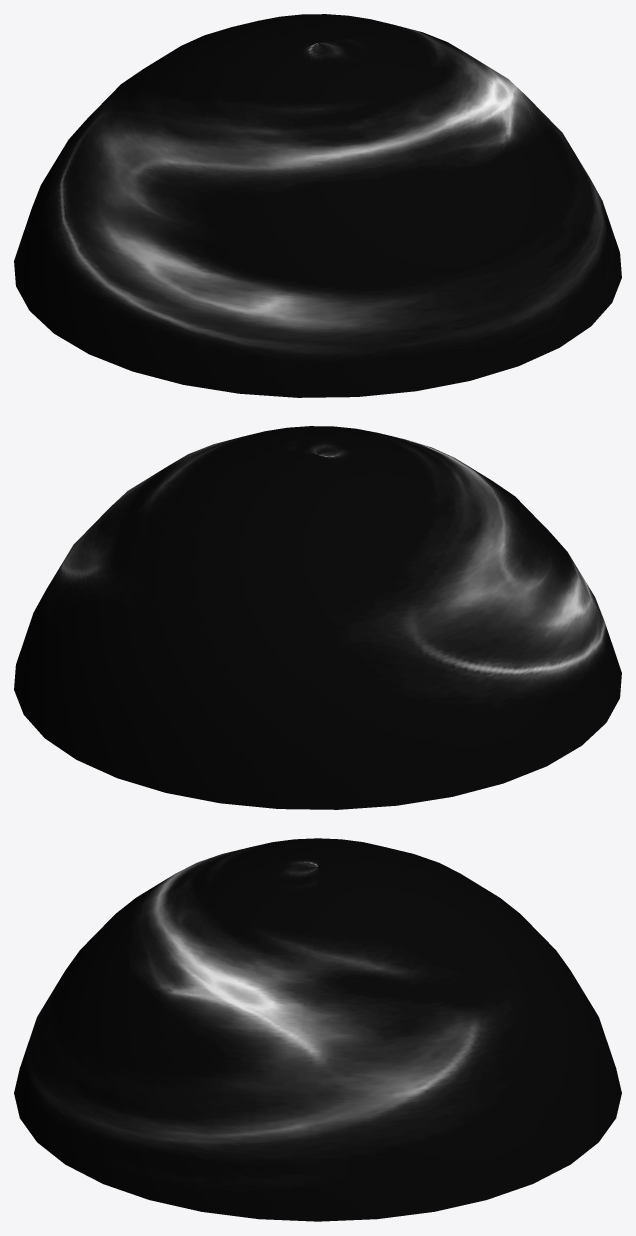
Rendered from 0212_banqiu.glb.
3 renders of one model, top to bottom at view 1: azimuth 30°, elevation 25°; view 2: azimuth 150°, elevation 25°; view 3: azimuth 270°, elevation 25°, orthographic.
Size of the model in its own units: 2.2 by 0.9028 by 2.2.
Materials: 1 (1 with a texture image).
